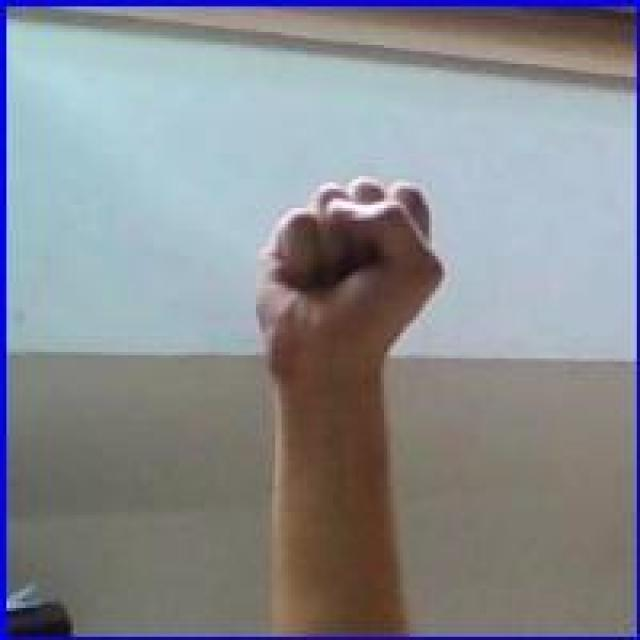S: (248, 174, 450, 370)
